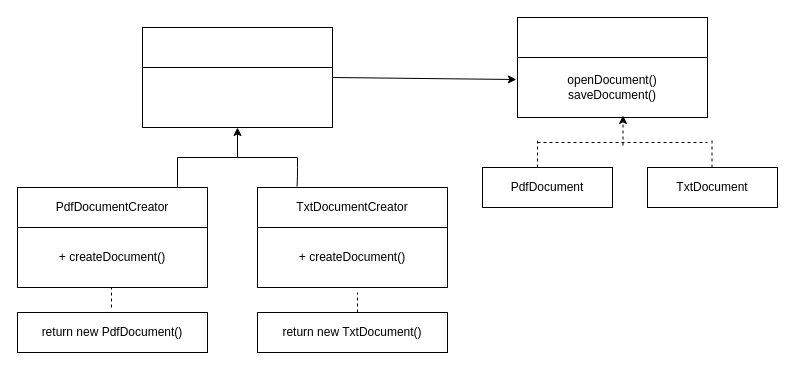
Some shapes in this 795 by 370 pixel diagram are drawn without their labels. Each missing label, with the box of its shape:
+ createDocument() : Document: (142, 66, 332, 128)
Document: (516, 16, 708, 58)
DocumentCreator: (142, 26, 332, 68)
